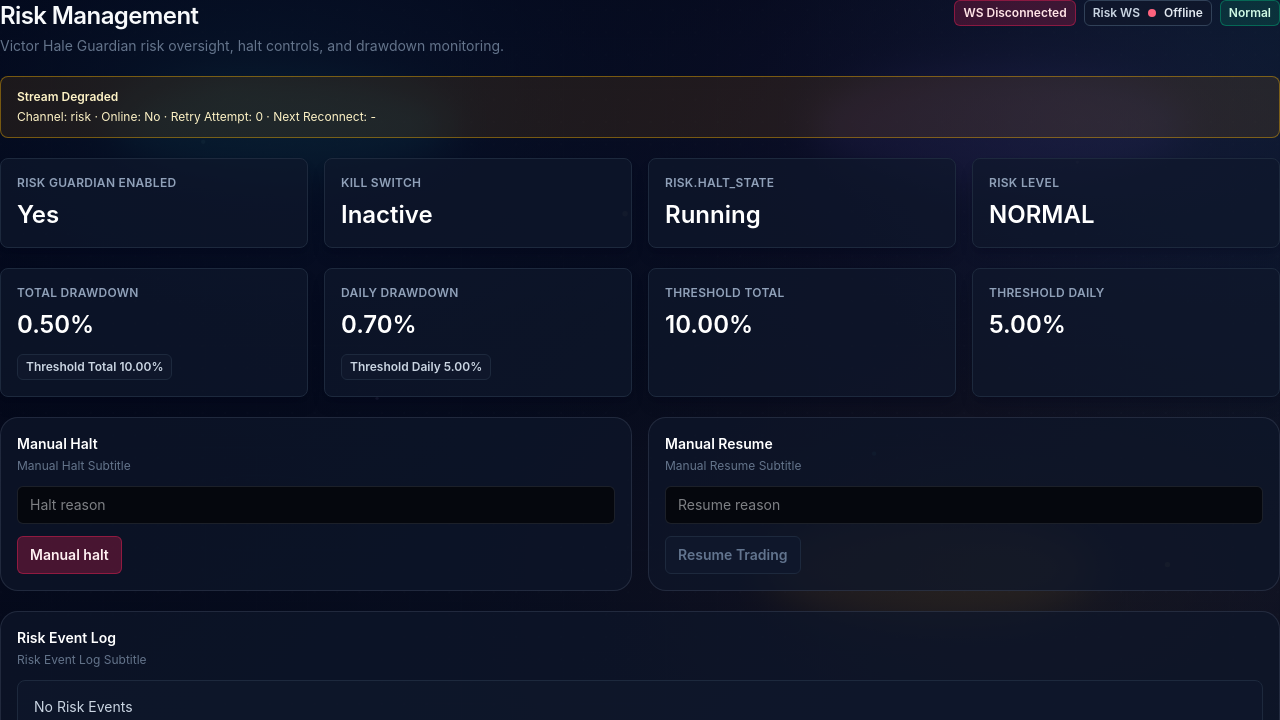
Test: RiskPanel › requires resume reason before confirmation
Expected: the button "Resume Trading" is disabled, [665,536,800,574]
Type "Risk normalized" into the field with placeholder "Resume reason" at (964, 505), box [665,486,1263,524]
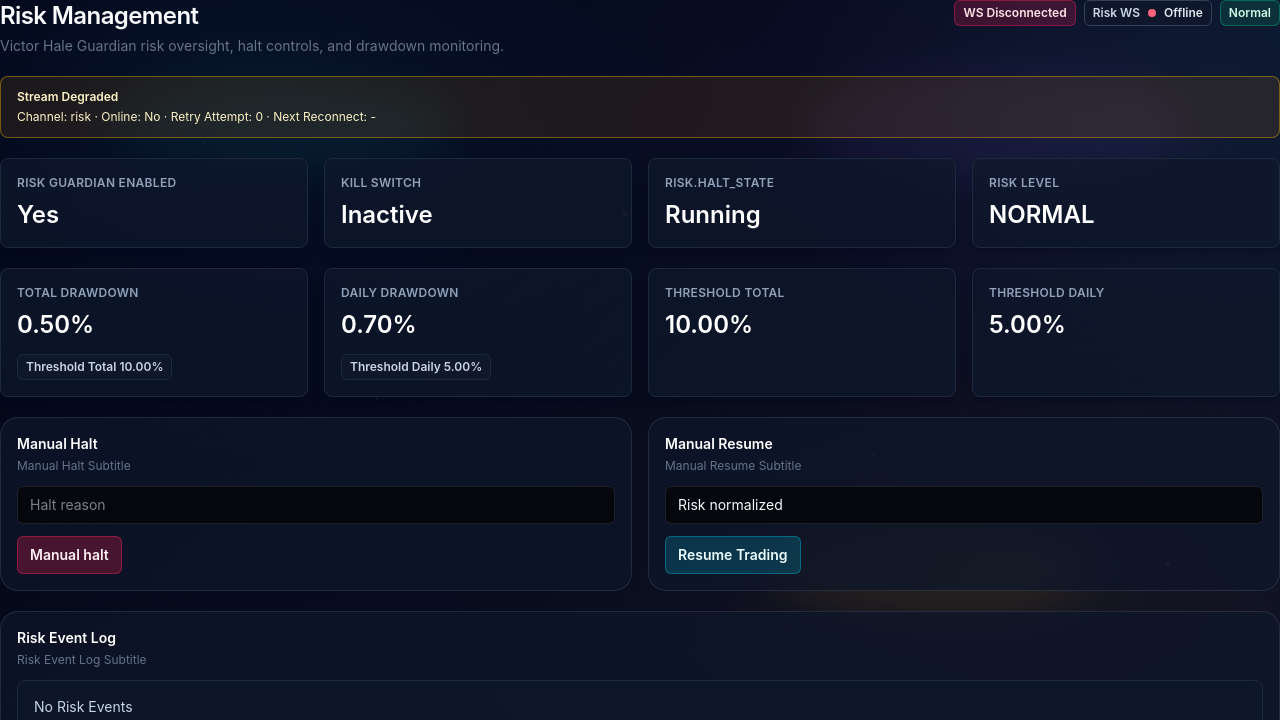
Result: the button "Resume Trading" is enabled
Click the button "Resume Trading" at (733, 555), box [665,536,800,574]
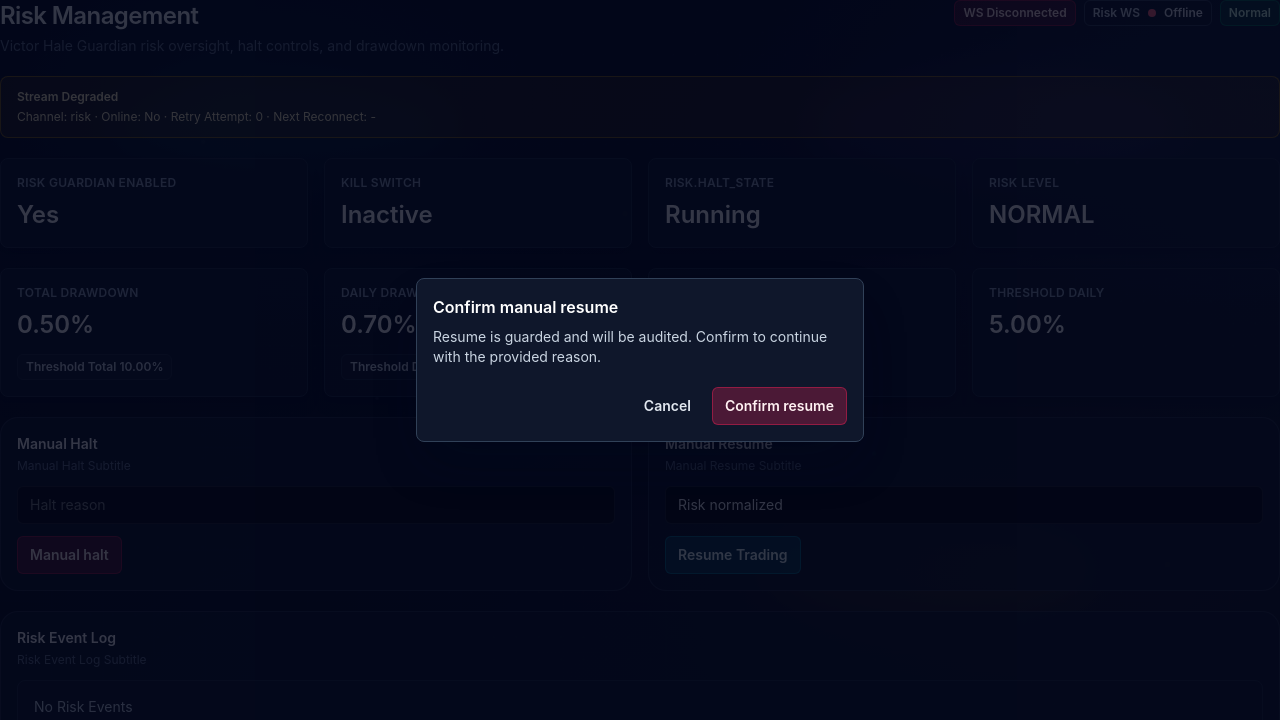
Result: the heading "Confirm manual resume" is shown at [433,297,618,317]
